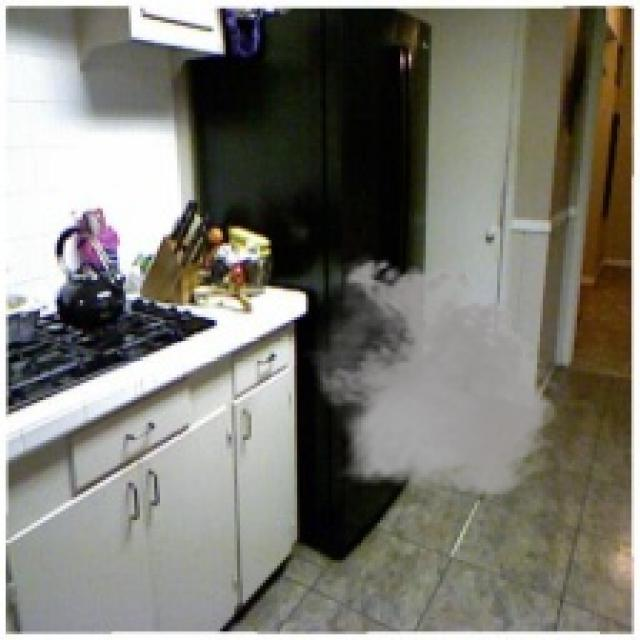Smoke: (303, 251, 566, 506)
